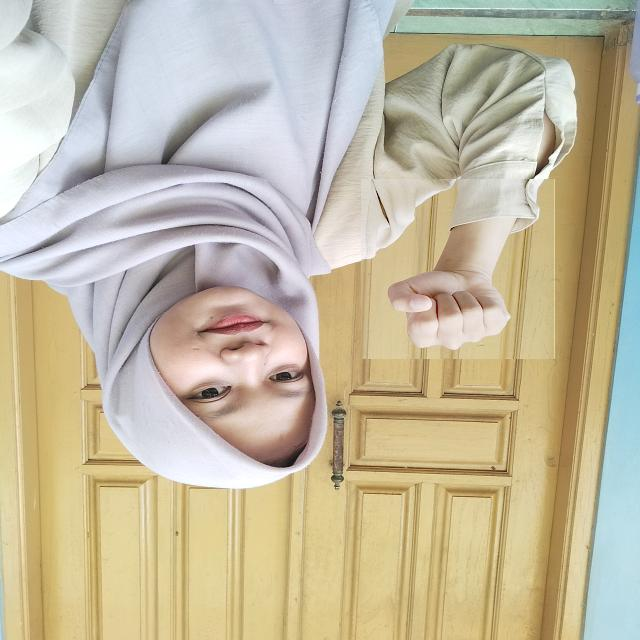baik: (362, 179, 556, 359)
